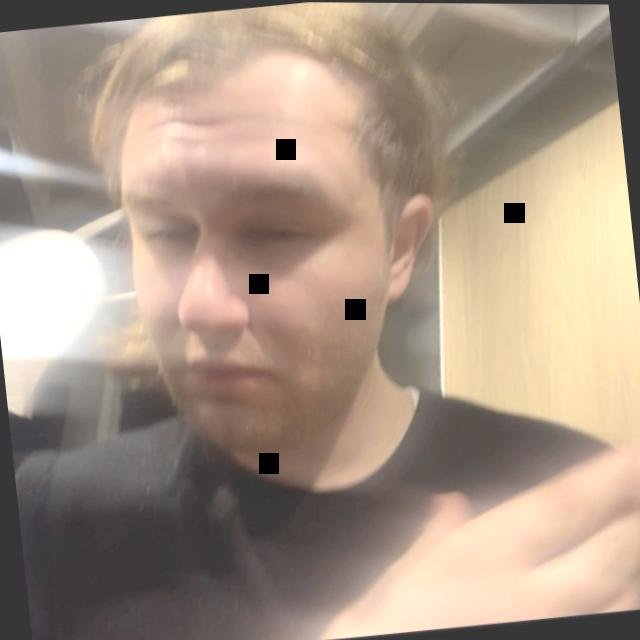NO-Mask: (48, 0, 467, 473)
